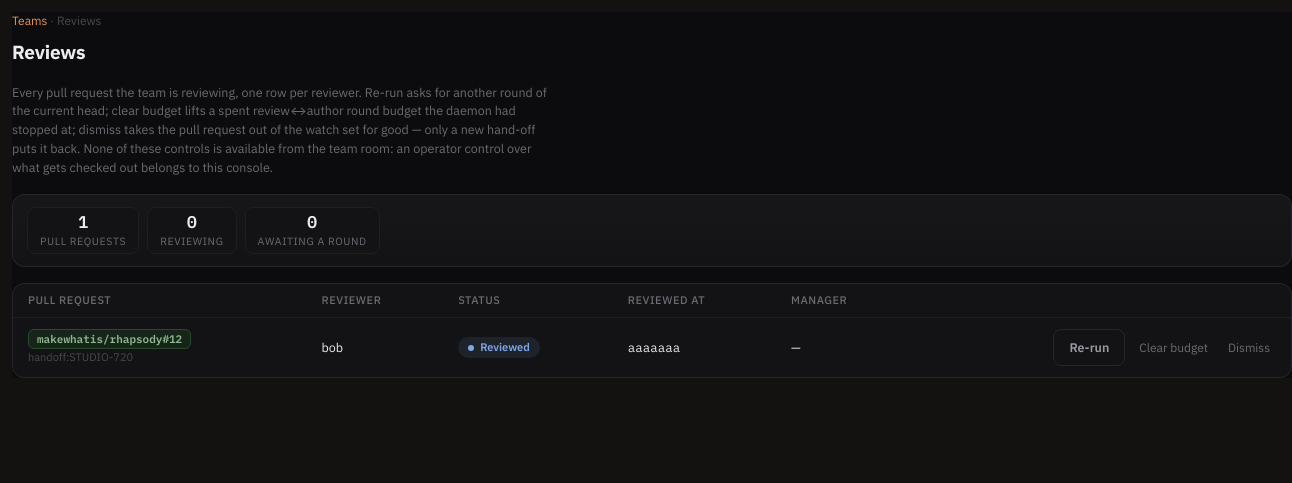
it: the Reviews surface › reveals the retired rows after a dismissal, so the dropped row is visible
Click the button with aria-label "Dismiss makewhatis/rhapsody#12 from the watch set" at [1249, 348], box [1222, 331, 1276, 365]
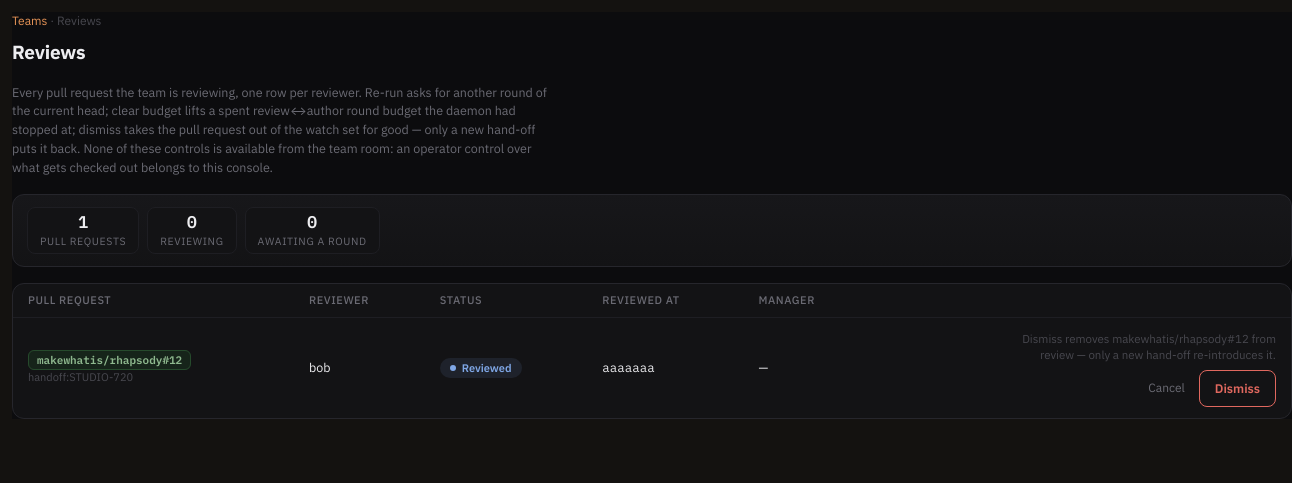
Click the button with aria-label "Confirm dismissing makewhatis/rhapsody#12" at [1237, 388], box [1199, 370, 1276, 407]
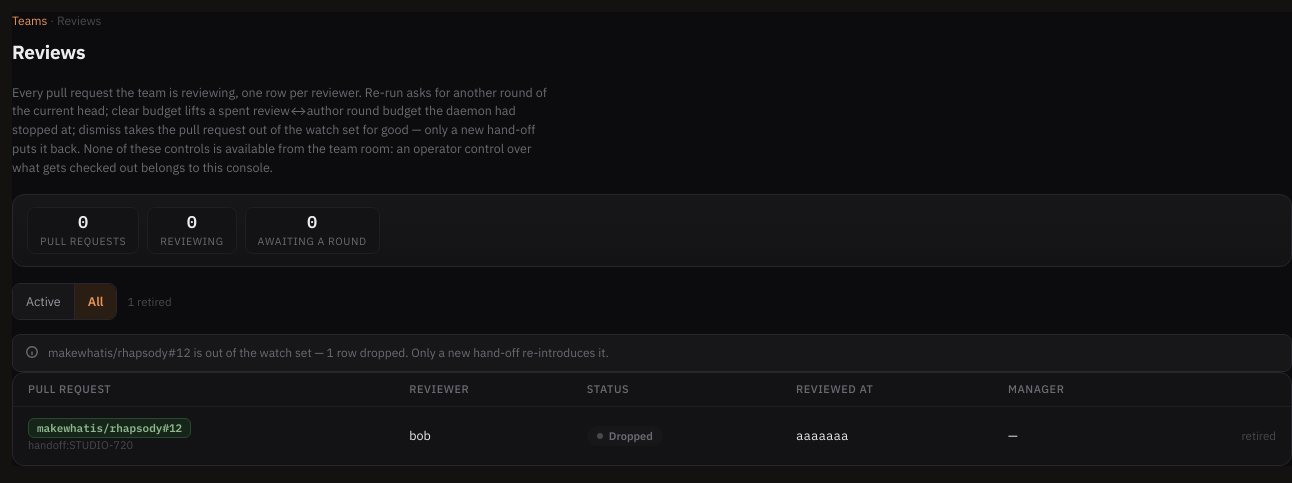
Expected: the message is shown, [12, 334, 1291, 372]
Expected: the text "Dropped" is shown, [587, 426, 663, 446]
